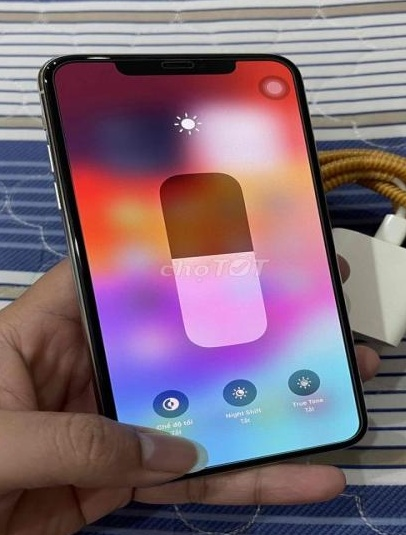scratch: (34, 55, 62, 85), (83, 50, 115, 61)
